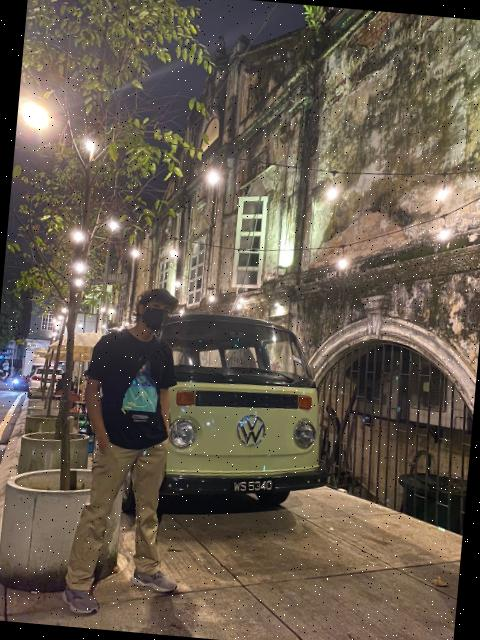License_Plate: (226, 473, 283, 504)
